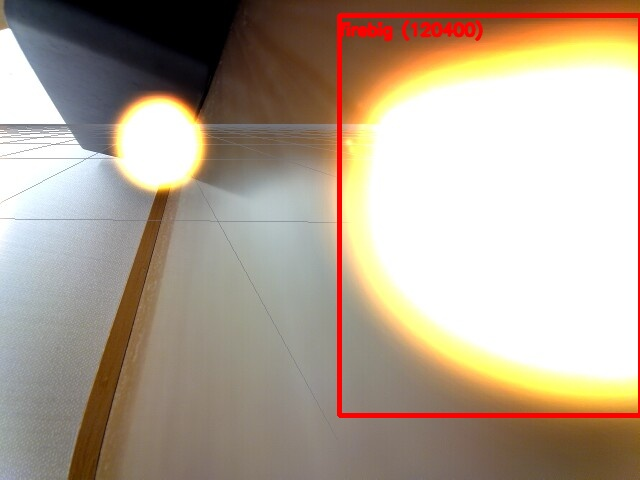firebig: (339, 15, 640, 415)
